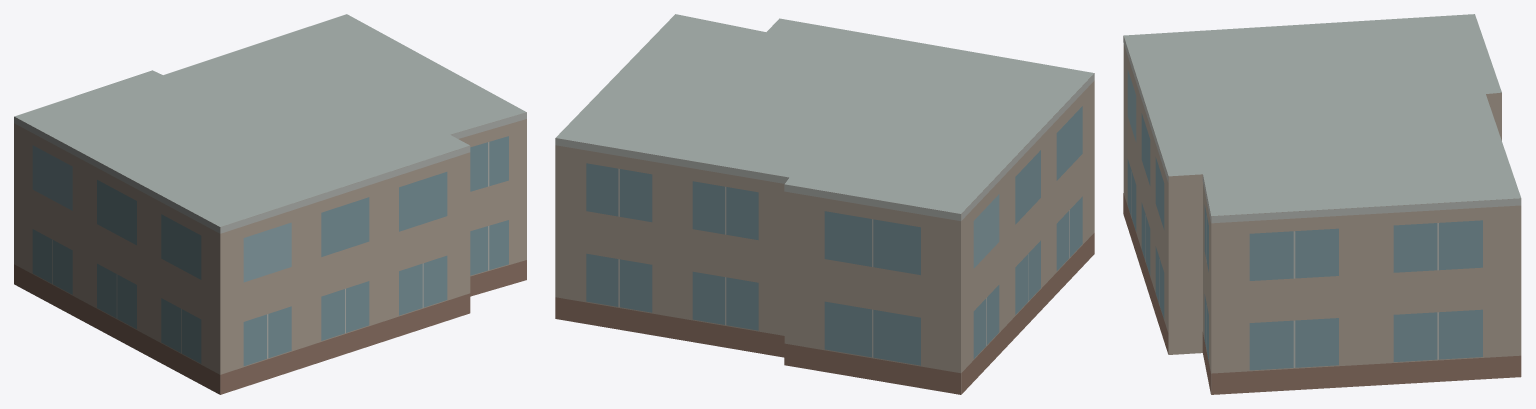
The model's file is survey-upis-32659991.glb.
3 renders of one model, left to right at view 1: azimuth 30°, elevation 25°; view 2: azimuth 150°, elevation 25°; view 3: azimuth 270°, elevation 25°, orthographic. The views are drawn at different scales.
Parts seen in each view (by area): view 1: survey-upis-32659991.tmp; view 2: survey-upis-32659991.tmp; view 3: survey-upis-32659991.tmp.
Boxes of the visible parts, left/top/right/bottom form: survey-upis-32659991.tmp: left=14, top=14, right=526, bottom=394; survey-upis-32659991.tmp: left=555, top=14, right=1094, bottom=394; survey-upis-32659991.tmp: left=1123, top=14, right=1521, bottom=394.
Bounding box in the file's own units: 14.81 × 6.1 × 12.32.
